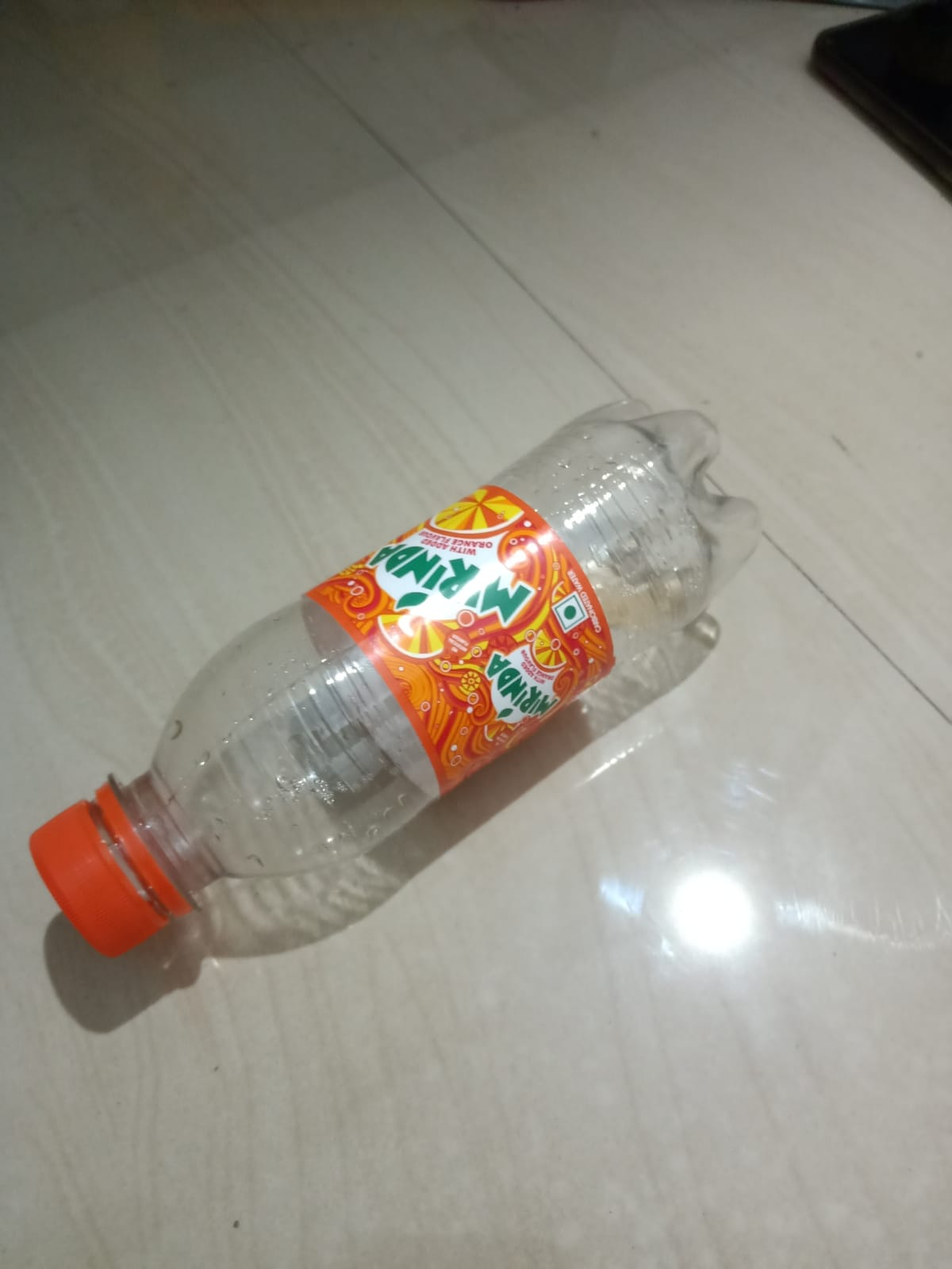plastic: (61, 365, 790, 819), (33, 823, 122, 942)
